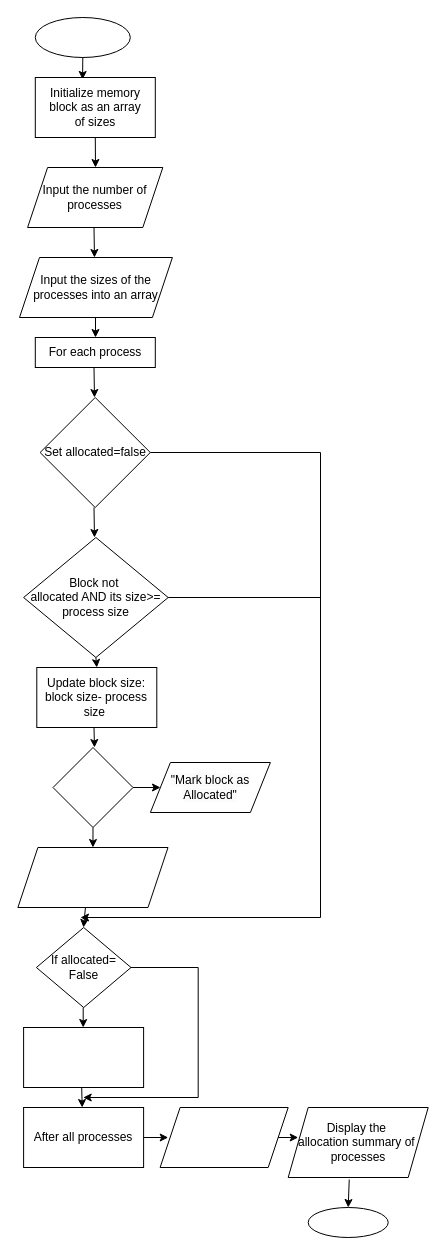
The diagram is 446 pixels wide and 1255 high, and some of its shapes have lost their labels. The shapes that lost their labels are listed below. From the top down, each one's box as (x1, y1, x2, y2) in pixels, then its label:
(34, 16, 130, 58): Start
(52, 746, 133, 828): Is block size == 0?
(17, 846, 168, 908): Display the relevant block size and all other free blocks
(23, 1026, 144, 1088): Mark the process as "Not Allocated"
(159, 1106, 288, 1168): Display the final memory state of all blocks
(307, 1206, 388, 1238): End
